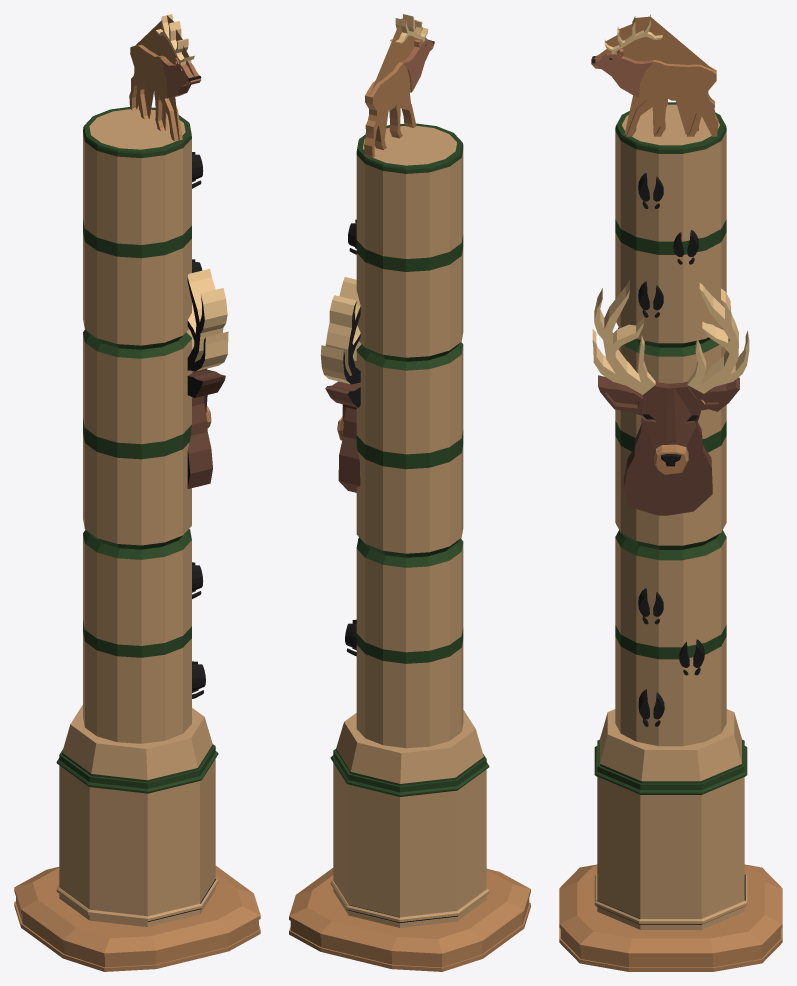
File: DeerTotem.fbx
3 views of the same model, side by side, from view 1: azimuth 30°, elevation 25°; view 2: azimuth 150°, elevation 25°; view 3: azimuth 270°, elevation 25° (orthographic). The views are drawn at different scales.
Parts seen in each view (by area): view 1: Totem; view 2: Totem; view 3: Totem.
Boxes of the visible parts, box(x1,y1,x2,y2) form: Totem: box(14, 14, 260, 971); Totem: box(289, 14, 530, 971); Totem: box(559, 14, 782, 971).
Size of the model in its own units: 200 by 908 by 200.
